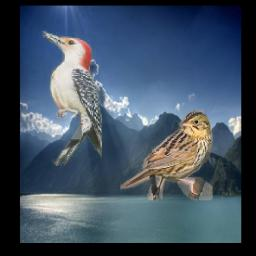Sparrow: (121, 109, 214, 200)
Woodpecker: (40, 31, 103, 166)
